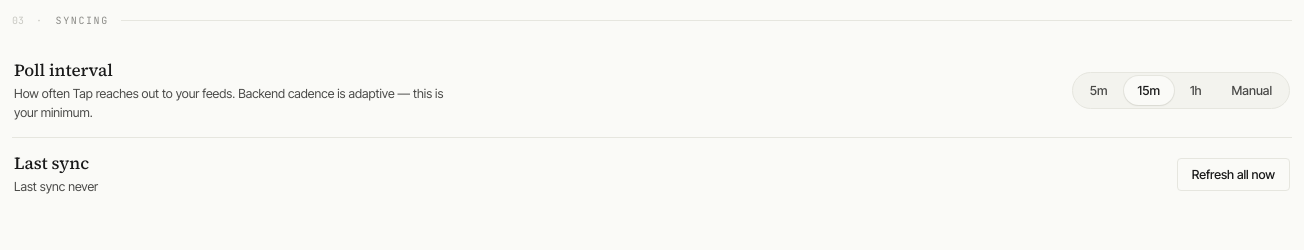
Scenario: SyncingSection › surfaces a partial-failure status when at least one feed PATCH rejects
Click the button "Refresh all now": (1233, 174) [1177,158,1290,190]
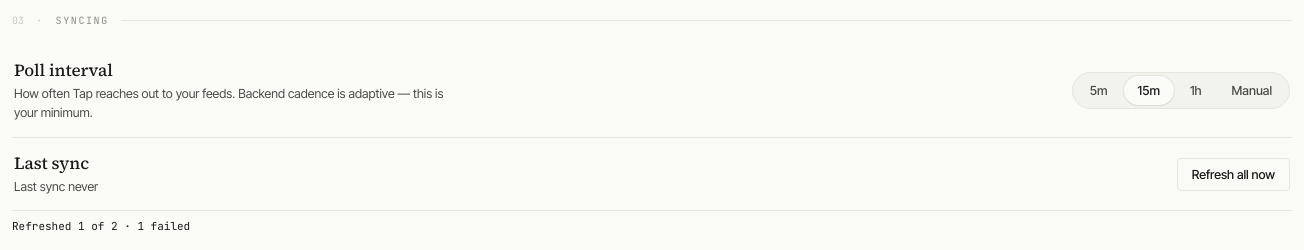
Check: the message reads "Refreshed 1 of 2 · 1 failed", box [12,219,190,233]
